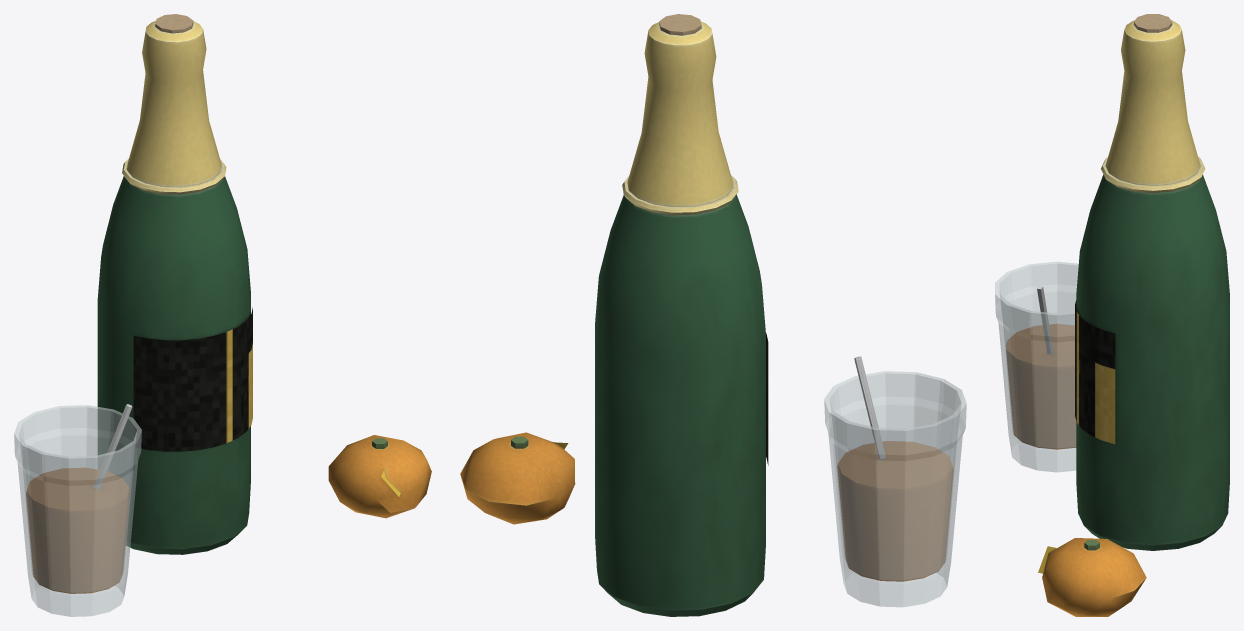
Rendered from ny_still_life.glb.
3 renders of one model, left to right at view 1: azimuth 30°, elevation 25°; view 2: azimuth 150°, elevation 25°; view 3: azimuth 270°, elevation 25°, orthographic. The views are drawn at different scales.
Visible parts, largest first — view 1: ny_still_life, soviet_glass_14; view 2: ny_still_life, soviet_glass_14; view 3: ny_still_life, soviet_glass_14.
Part boxes in pixels (x1,y1,x2,y2): ny_still_life: (26,14,431,593); soviet_glass_14: (14,405,141,616); ny_still_life: (460,14,953,616); soviet_glass_14: (824,371,966,607); ny_still_life: (1006,14,1229,616); soviet_glass_14: (995,261,1078,472).
Bounding box in the file's own units: 0.276 × 0.317 × 0.1346.
Materials: 2 (1 with a texture image).
